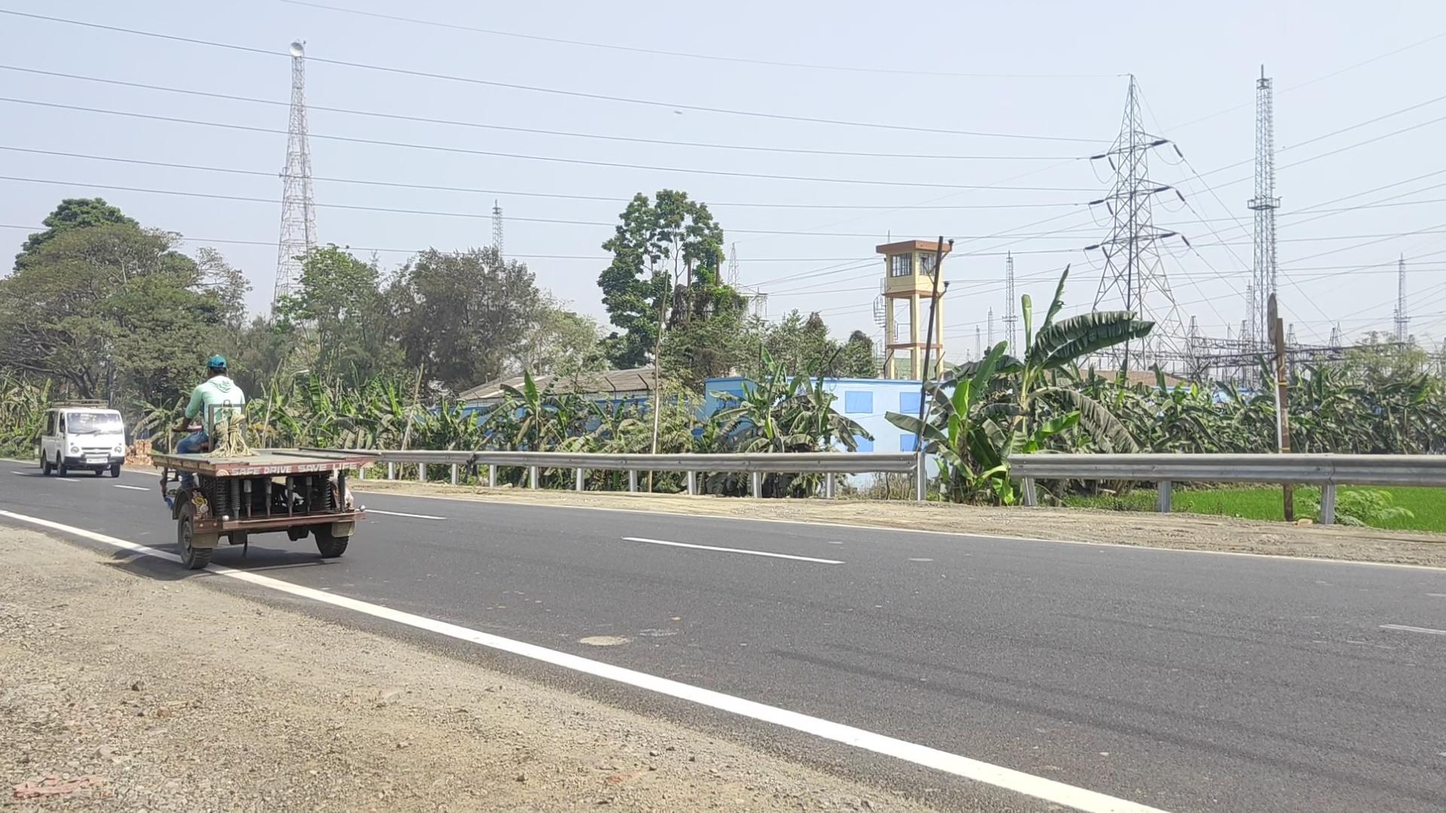van: (40, 400, 126, 478)
